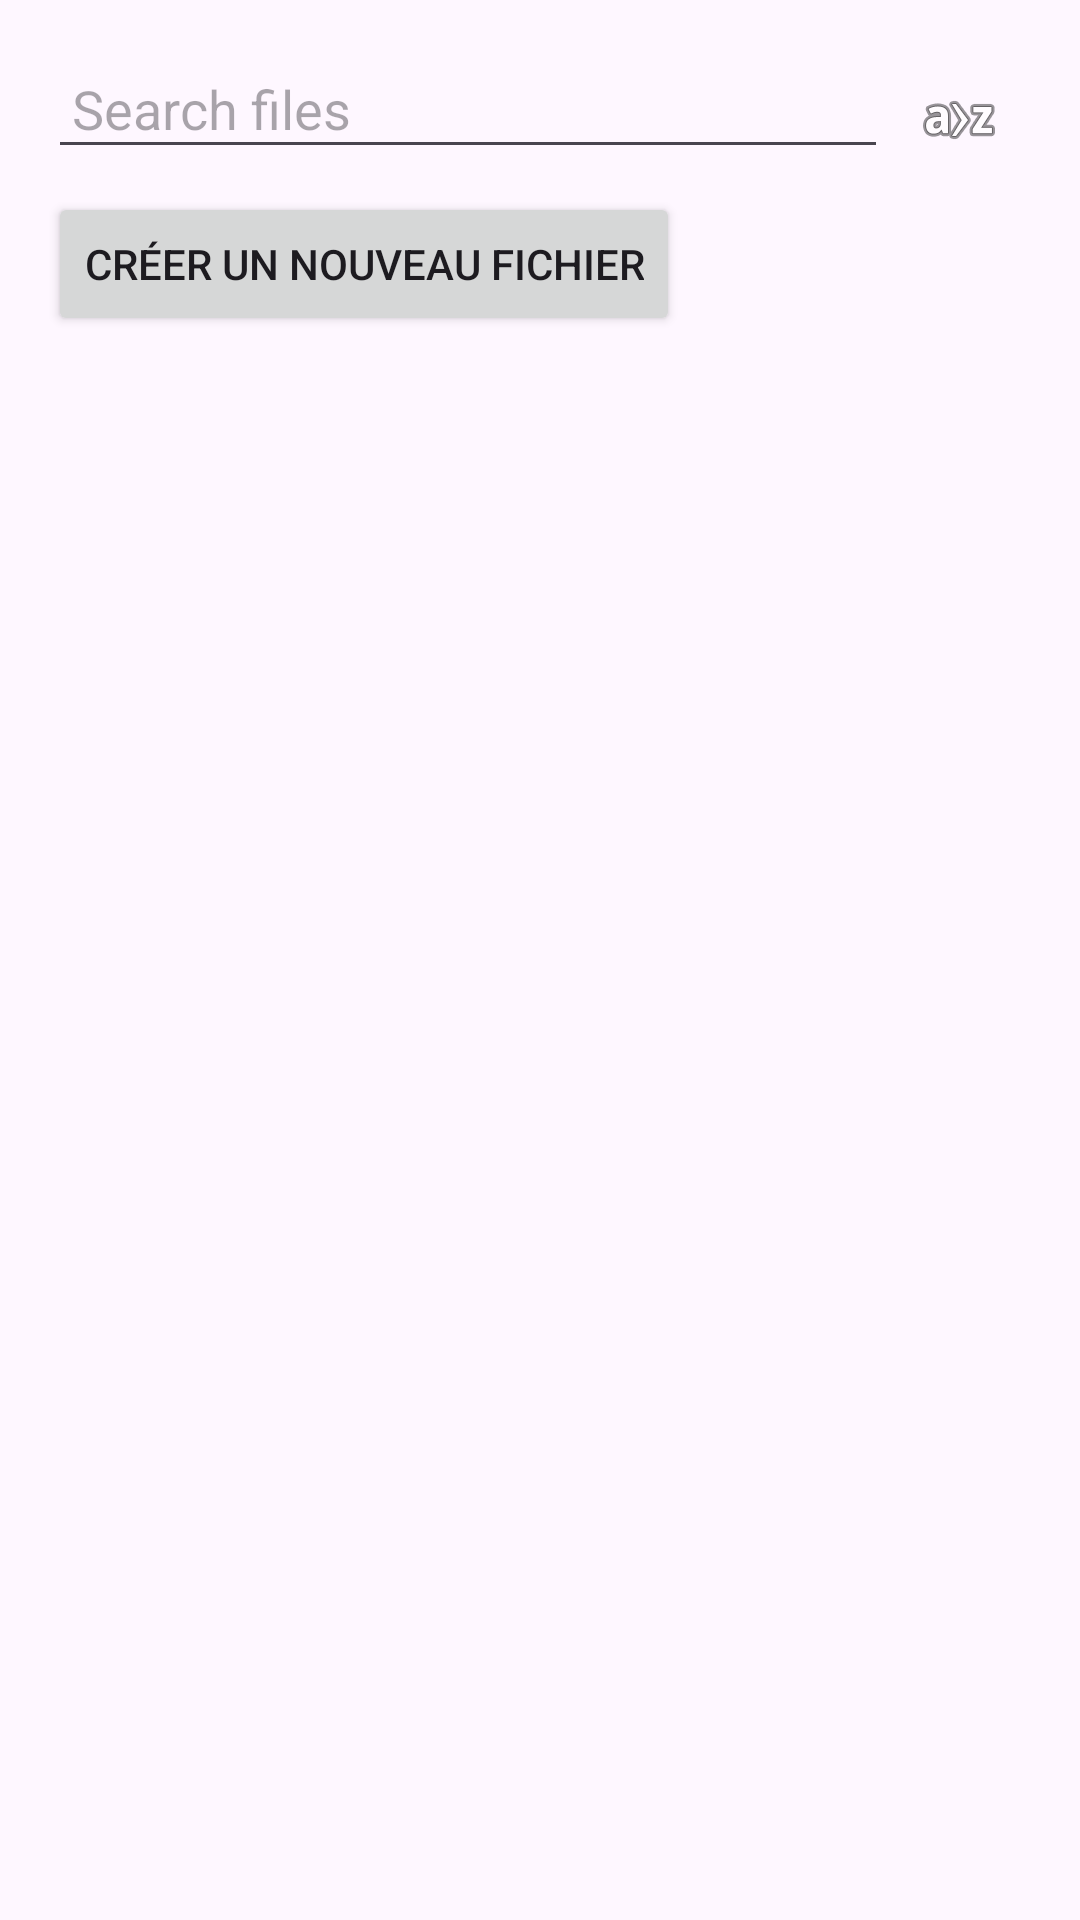

Icon click points for this 1080 x 1920 phone screenshot, format [x,y]:
Sort files: [959,120]
